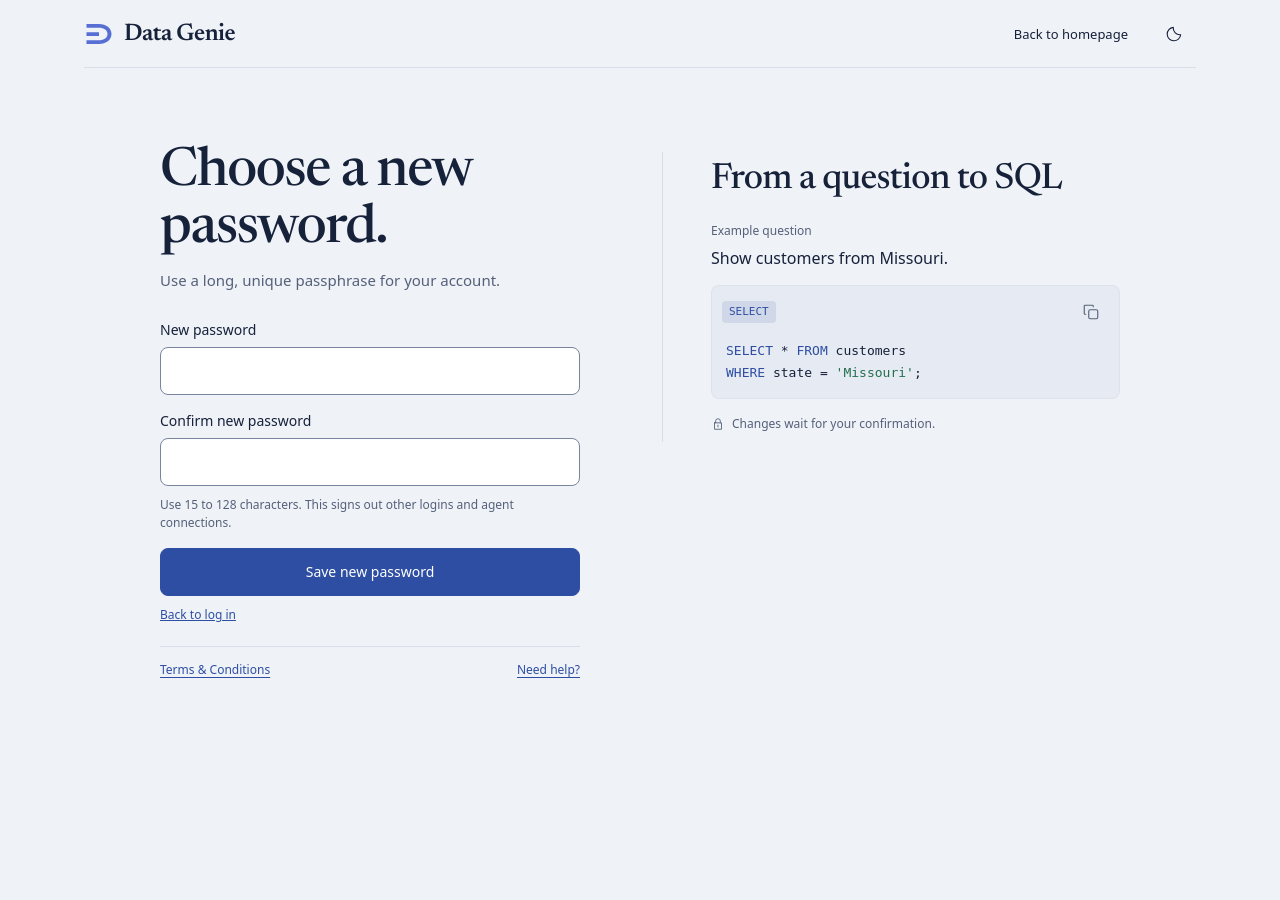
captures the token from the email link, removes it from the URL, and submits it with matching passwords
Type "a new long passphrase 123" into the password field labelled "New password" at (370, 371), box [160,347,580,395]
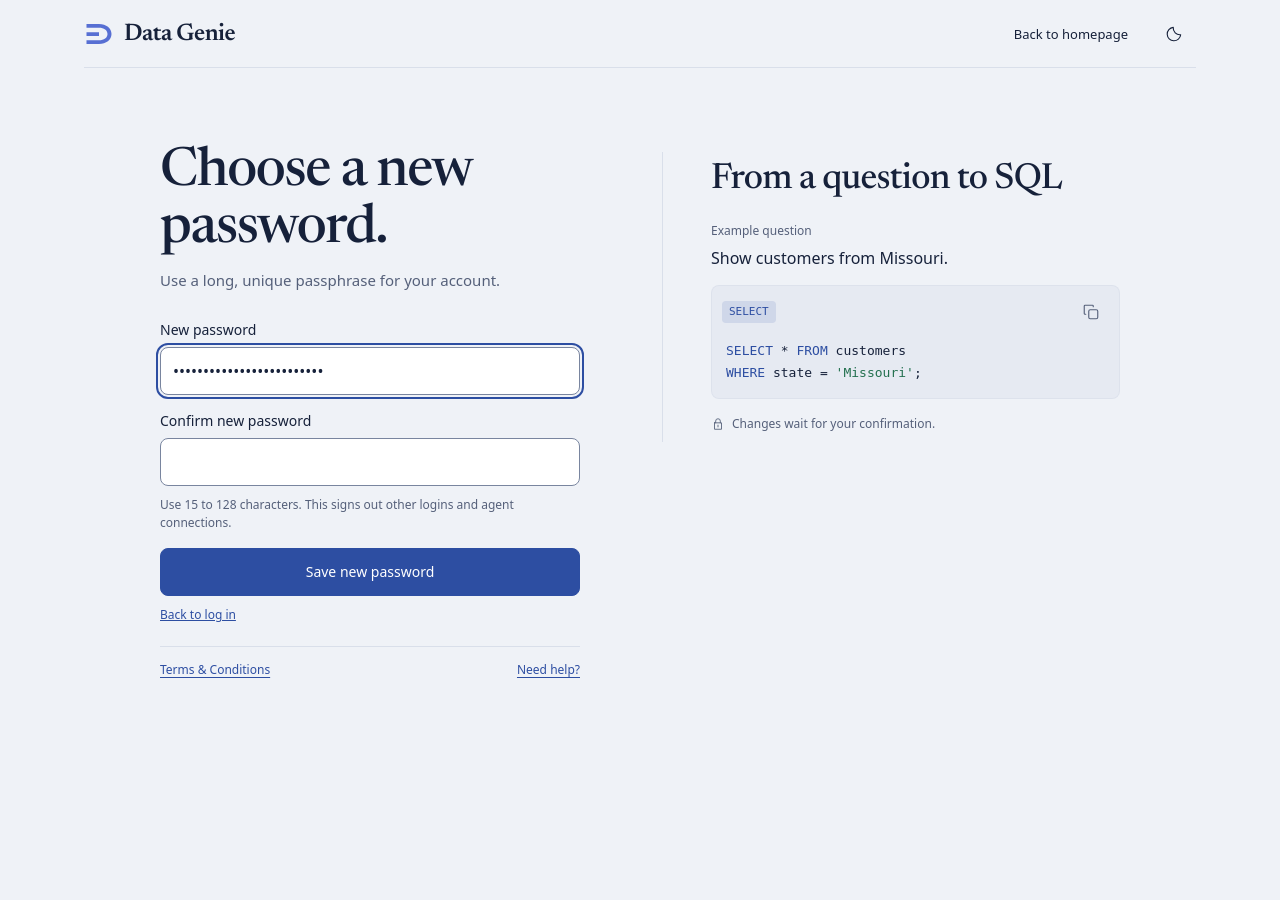
Type "another long passphrase 456" into the password field labelled "Confirm new password" at (370, 462), box [160,438,580,486]
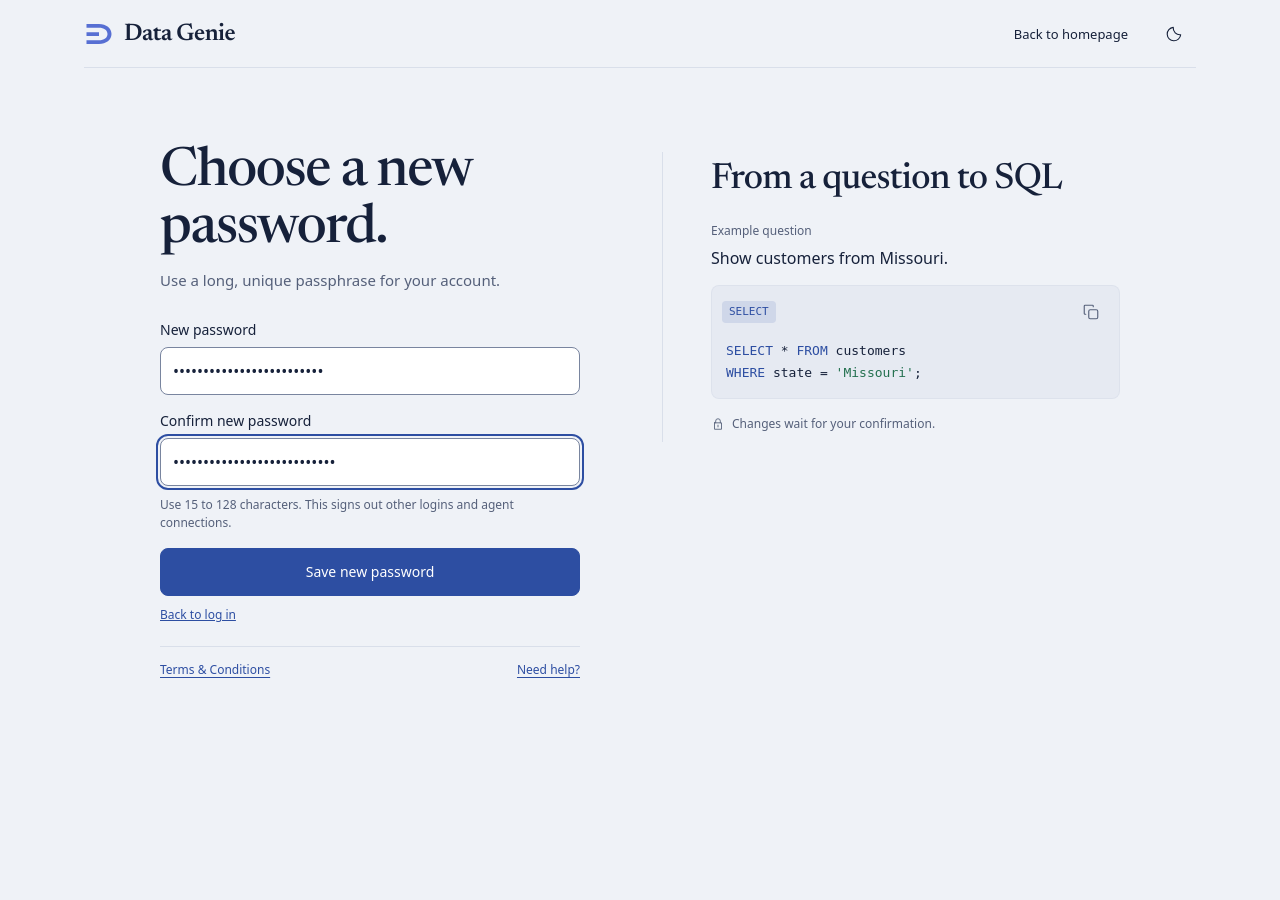
Click the button "Save new password" at (370, 572), box [160,548,580,596]
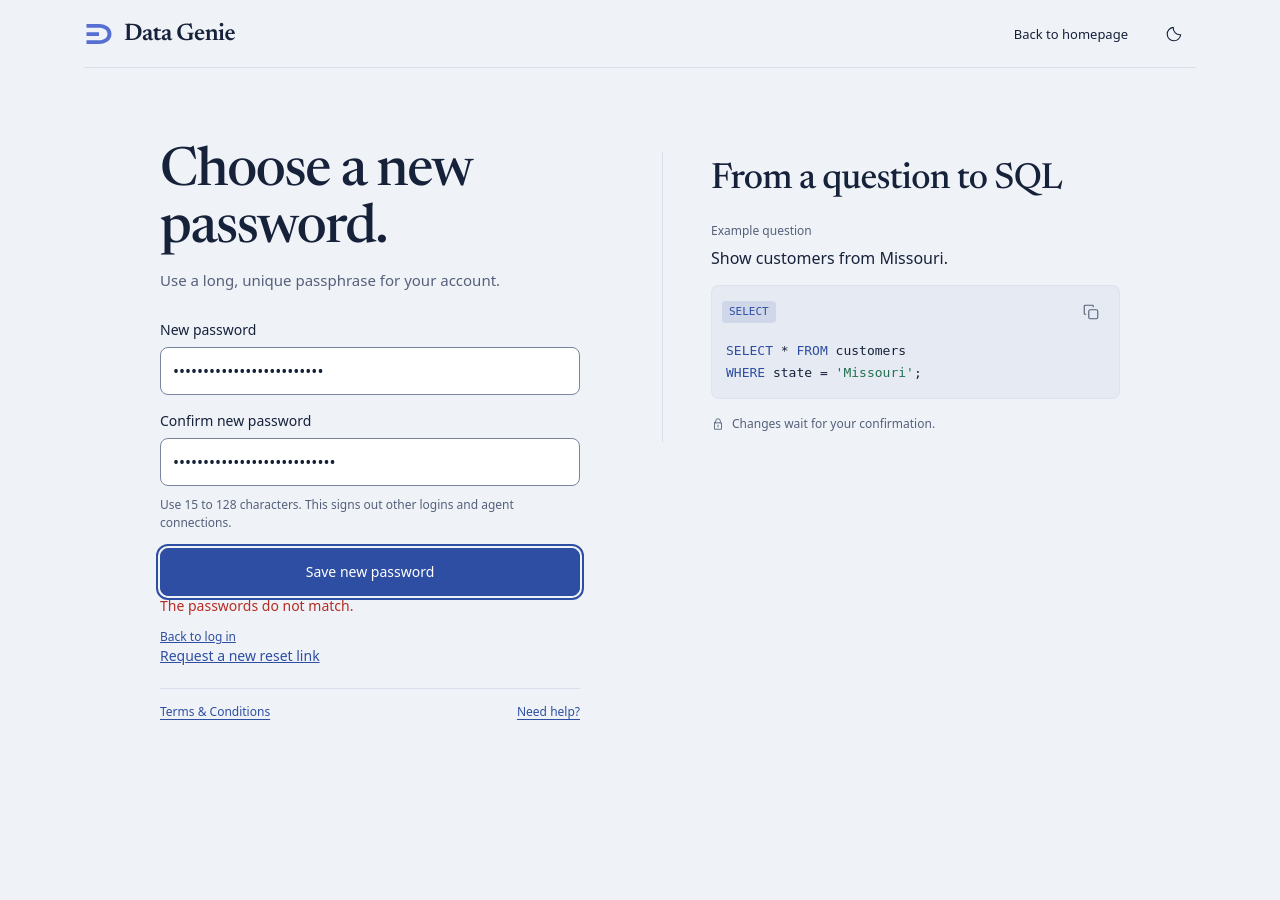
Expected: the message reads "The passwords do not match.", [160,596,353,615]
Type "a new long passphrase 123" into the password field labelled "Confirm new password" at (370, 462), box [160,438,580,486]
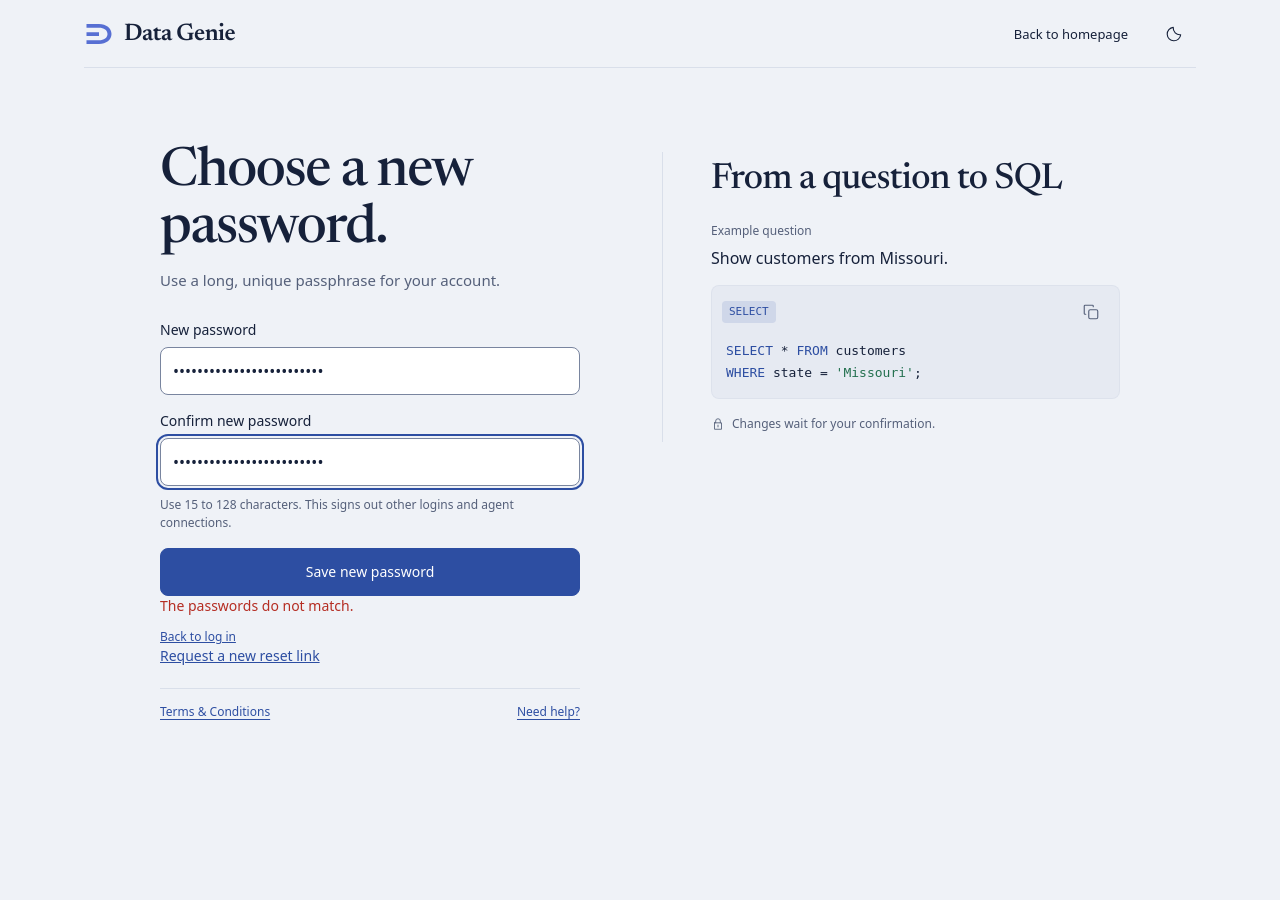
Click the button "Save new password" at (370, 572), box [160,548,580,596]
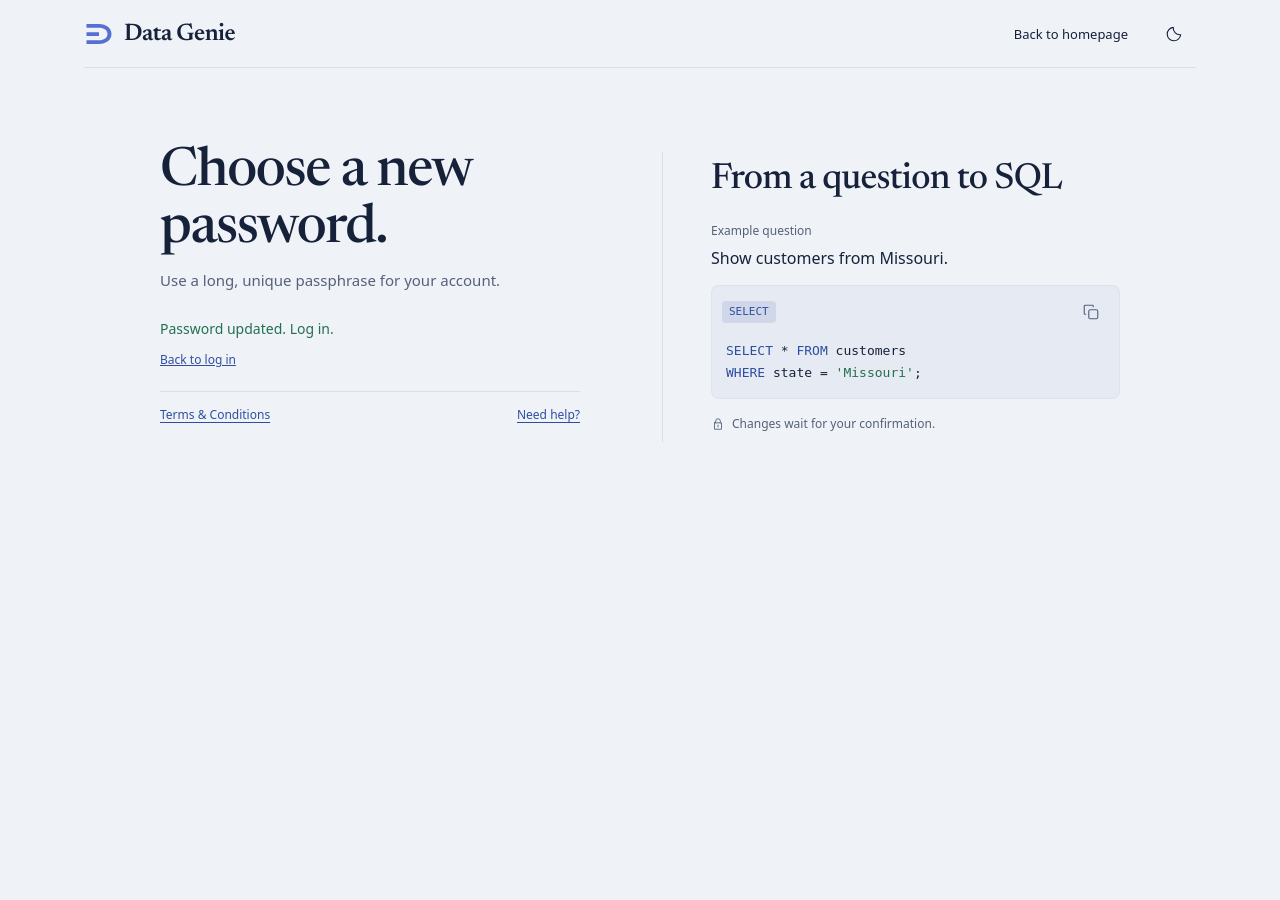
Expected: the text "Password updated. Log in." is shown, [160,319,334,338]
